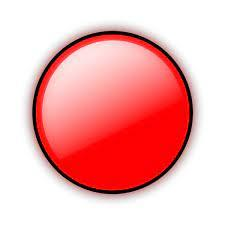red_circle: (22, 19, 204, 205)
